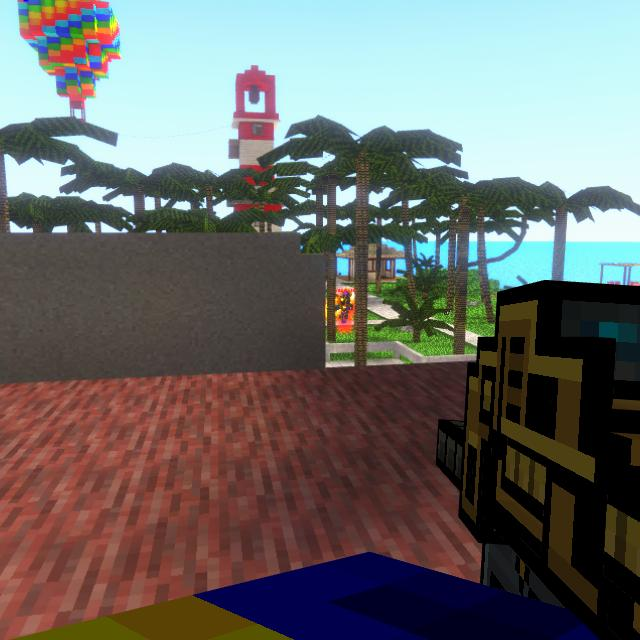Enemy: (337, 295, 355, 324)
